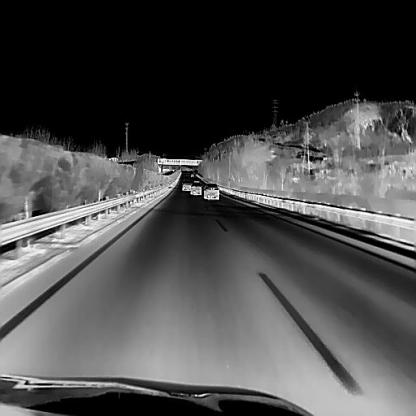car: (203, 182, 219, 199), (188, 180, 202, 194), (181, 179, 192, 190)
